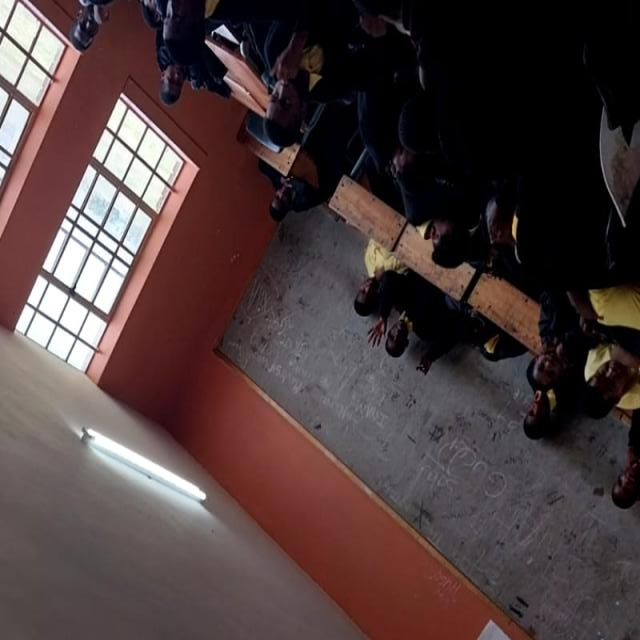fluorescent tube: (54, 389, 230, 536)
